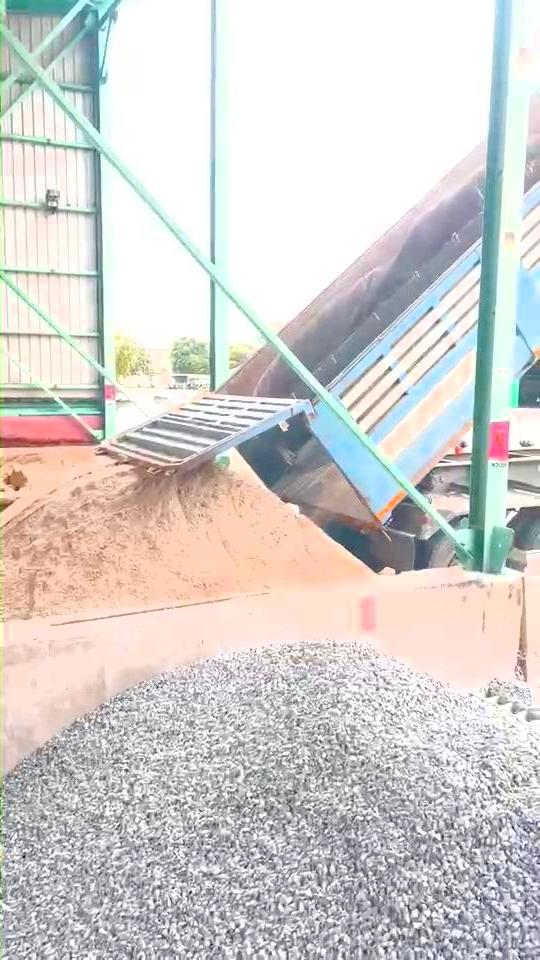gravel: (4, 643, 540, 959), (482, 677, 540, 721)
sand: (2, 465, 370, 619), (3, 447, 93, 493)
